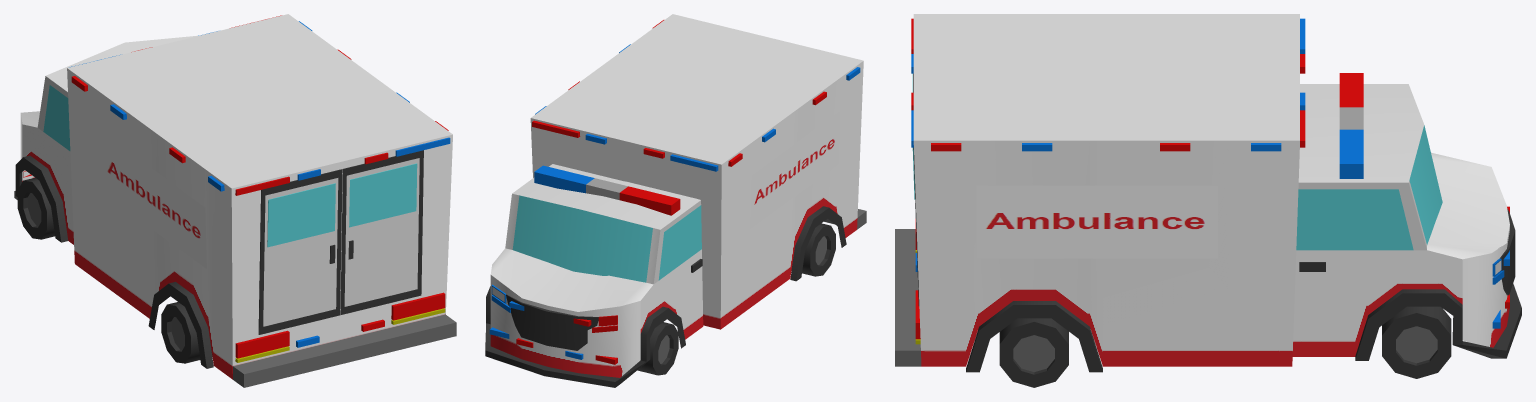
The model's file is Vehicle_Ambulance_Mod_01.fbx.
3 renders of one model, left to right at view 1: azimuth 30°, elevation 25°; view 2: azimuth 150°, elevation 25°; view 3: azimuth 270°, elevation 25°, orthographic. The views are drawn at different scales.
Parts seen in each view (by area): view 1: Body, polySurface5, polySurface1, Lights, Wheels; view 2: Body, Lights, Wheels, pCube5; view 3: Body, Wheels, Lights, pCube5.
Part boxes in pixels (bbox=[...]): Body: bbox=[15, 14, 456, 387]; polySurface5: bbox=[258, 169, 342, 334]; polySurface1: bbox=[340, 150, 423, 315]; Lights: bbox=[23, 15, 450, 362]; Wheels: bbox=[17, 177, 212, 363]; Body: bbox=[486, 14, 866, 377]; Lights: bbox=[489, 20, 860, 364]; Wheels: bbox=[637, 223, 835, 375]; pCube5: bbox=[485, 323, 647, 387]; Body: bbox=[895, 14, 1515, 372]; Wheels: bbox=[999, 306, 1451, 387]; Lights: bbox=[911, 18, 1509, 344]; pCube5: bbox=[1453, 283, 1521, 358].
Size of the model in its own units: 11.76 by 10.33 by 23.77.
